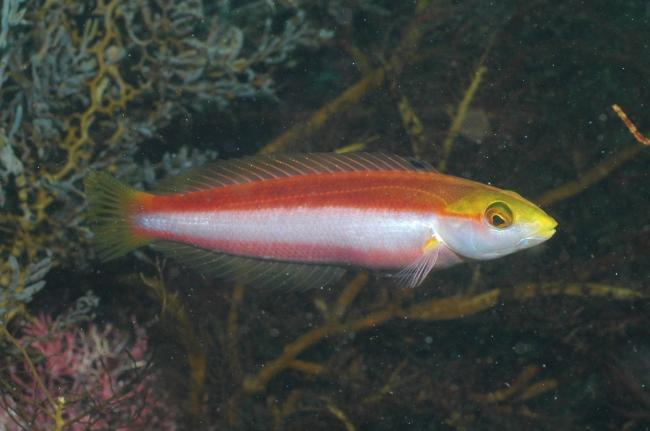fish: (86, 149, 560, 289)
